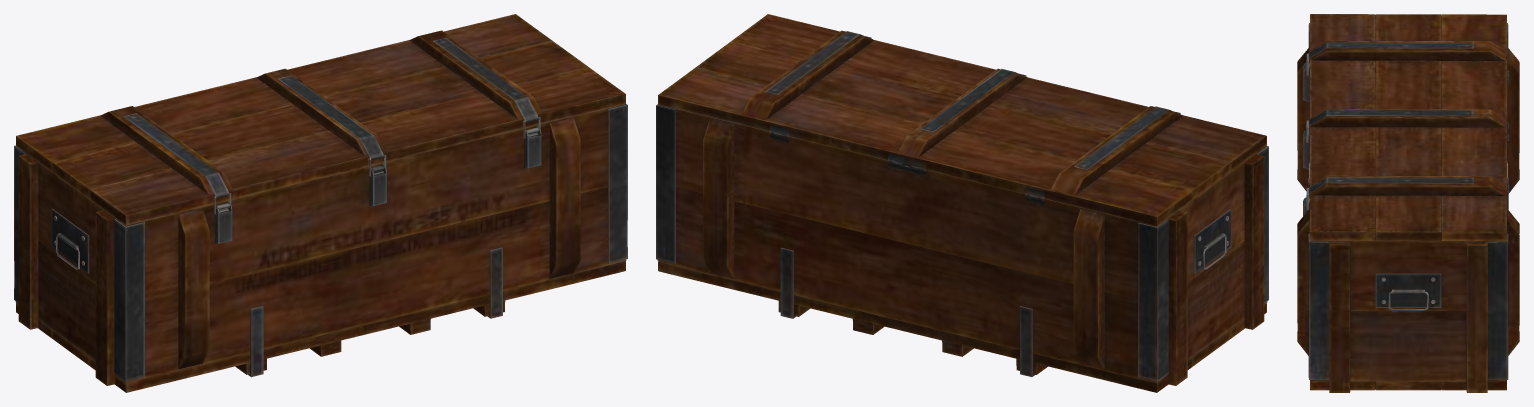
File: wooden_military_crate.glb
3 views of the same model, side by side, from view 1: azimuth 30°, elevation 25°; view 2: azimuth 150°, elevation 25°; view 3: azimuth 270°, elevation 25° (orthographic). The views are drawn at different scales.
Parts seen in each view (by area): view 1: wooden_military_crate; view 2: wooden_military_crate; view 3: wooden_military_crate.
Part boxes in pixels (x1=…): wooden_military_crate: x1=14, y1=14, x2=627, y2=392; wooden_military_crate: x1=656, y1=14, x2=1268, y2=392; wooden_military_crate: x1=1297, y1=14, x2=1519, y2=392.
Size of the model in its own units: 1.24 by 0.4642 by 0.5174.
1 material, 1 textured.
